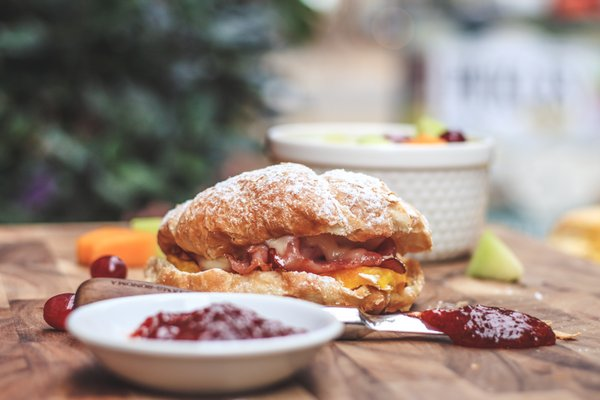soup: (146, 162, 433, 314)
sushi: (265, 118, 495, 263), (61, 286, 346, 394)
taco: (76, 226, 157, 268)
